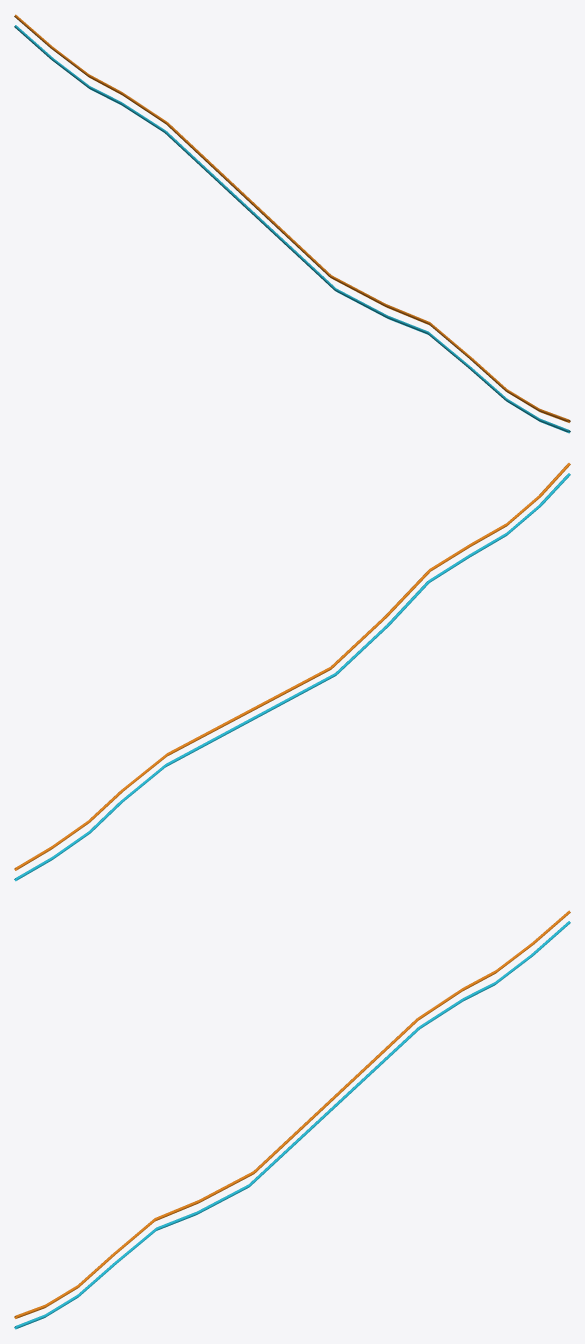
Rendered from cable wall 1b.FBX.
The picture shows the model from 3 angles, top to bottom: view 1: azimuth 30°, elevation 25°; view 2: azimuth 150°, elevation 25°; view 3: azimuth 330°, elevation 25°; orthographic projection.
Parts seen in each view (by area): view 1: Box534; view 2: Box534; view 3: Box534.
Boxes of the visible parts, <box> form: Box534: <box>14,14,570,433</box>; Box534: <box>14,463,570,881</box>; Box534: <box>14,910,570,1329</box>.
Size of the model in its own units: 0.014 by 0.1853 by 4.
